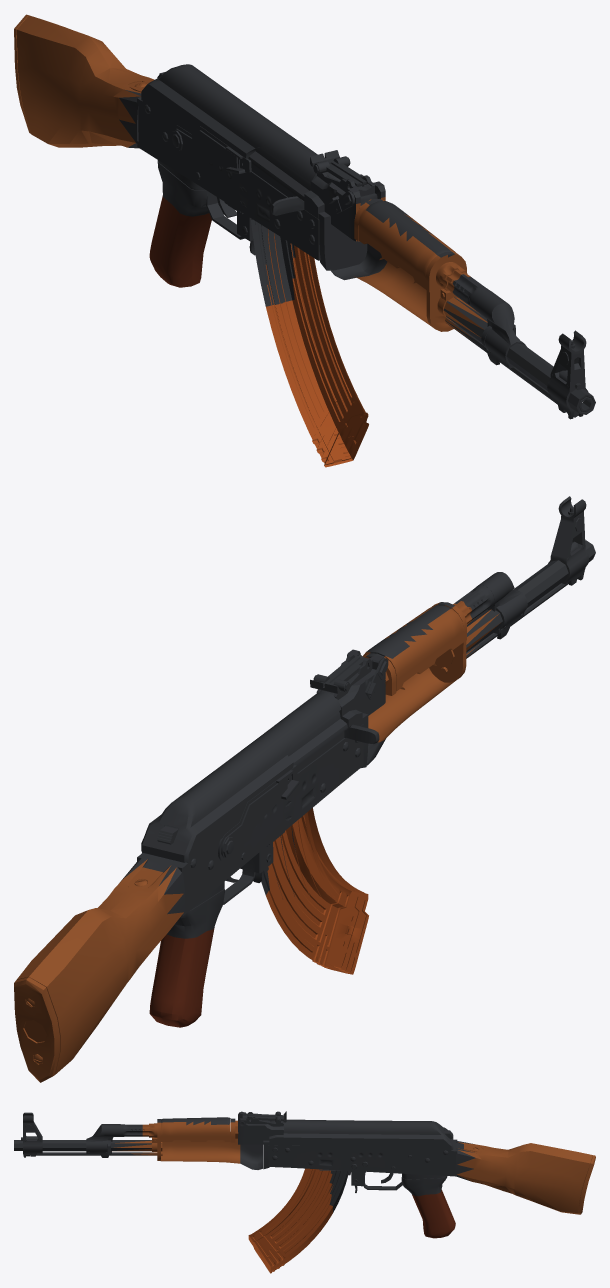
The model's file is gun_ak.glb.
3 renders of one model, top to bottom at view 1: azimuth 30°, elevation 25°; view 2: azimuth 150°, elevation 25°; view 3: azimuth 270°, elevation 25°, orthographic. The views are drawn at different scales.
Parts seen in each view (by area): view 1: steel, wood, mag, bakelite; view 2: steel, wood, mag, bakelite; view 3: steel, wood, mag, bakelite.
Boxes of the visible parts, left/top/right/bottom form: steel: left=119, top=64, right=595, bottom=419; wood: left=14, top=14, right=487, bottom=339; mag: left=265, top=229, right=368, bottom=467; bakelite: left=149, top=195, right=211, bottom=287; steel: left=121, top=496, right=595, bottom=938; wood: left=14, top=601, right=500, bottom=1082; mag: left=266, top=808, right=368, bottom=974; bakelite: left=149, top=927, right=214, bottom=1027; steel: left=14, top=1111, right=475, bottom=1212; wood: left=112, top=1120, right=595, bottom=1214; mag: left=248, top=1168, right=333, bottom=1273; bakelite: left=412, top=1190, right=455, bottom=1238.
Size of the model in its own units: 0.0707 by 0.2605 by 0.8799.
